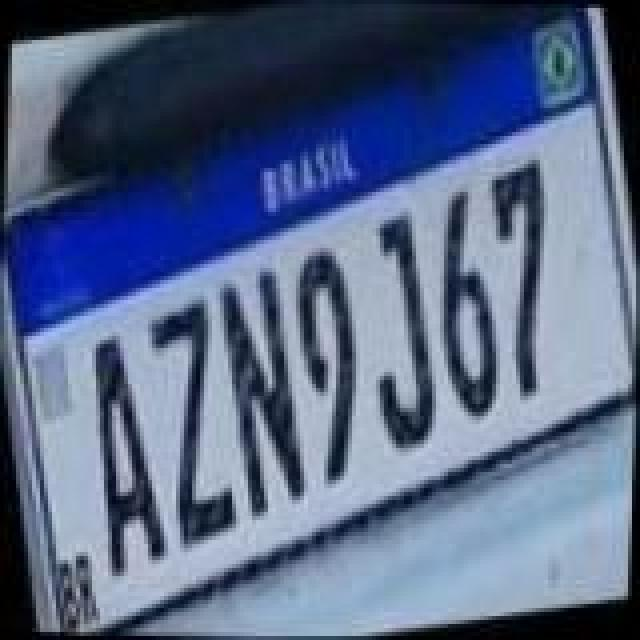6: (410, 182, 514, 426)
7: (476, 150, 580, 402)
9: (280, 242, 384, 490)
A: (68, 326, 176, 582)
J: (344, 202, 452, 454)
N: (206, 258, 322, 518)
Z: (136, 296, 252, 556)
